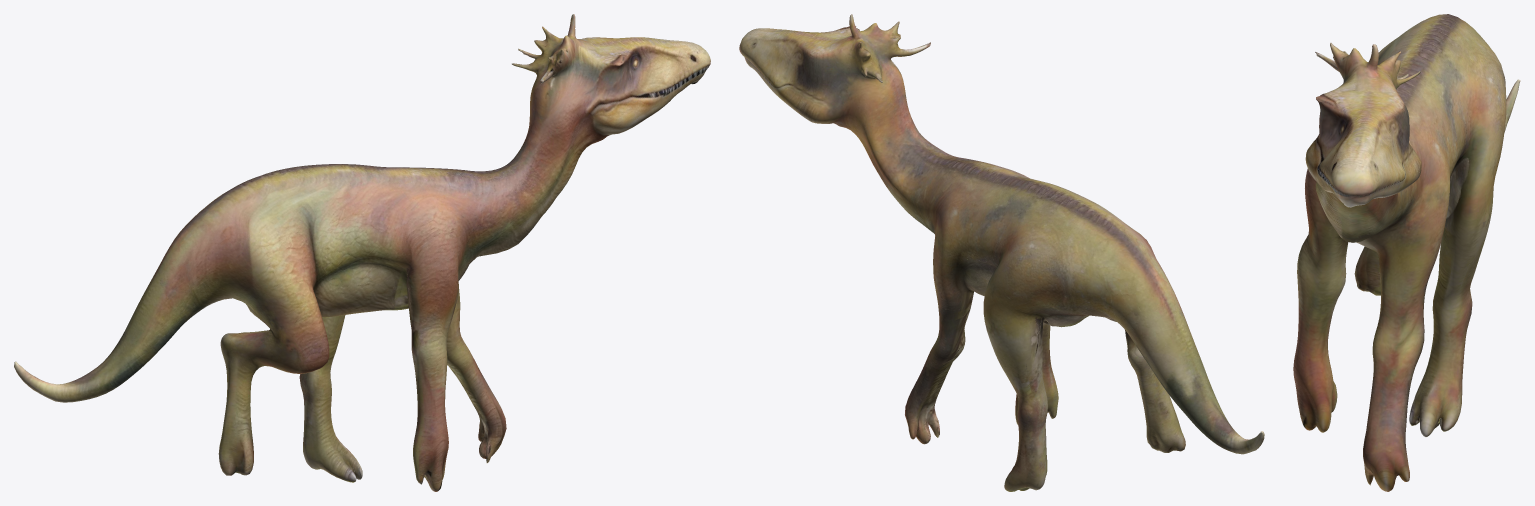
The model's file is 03 Silesauridae 3D.glb.
3 renders of one model, left to right at view 1: azimuth 30°, elevation 25°; view 2: azimuth 150°, elevation 25°; view 3: azimuth 270°, elevation 25°, orthographic. The views are drawn at different scales.
Parts seen in each view (by area): view 1: Mesh0; view 2: Mesh0; view 3: Mesh0.
Boxes of the visible parts, x1,y1,x2,y2 form: Mesh0: (14, 14, 710, 491); Mesh0: (739, 14, 1264, 491); Mesh0: (1293, 14, 1520, 491).
Bounding box in the file's own units: 14.36 × 9.62 × 3.96.
1 material, 1 textured.
